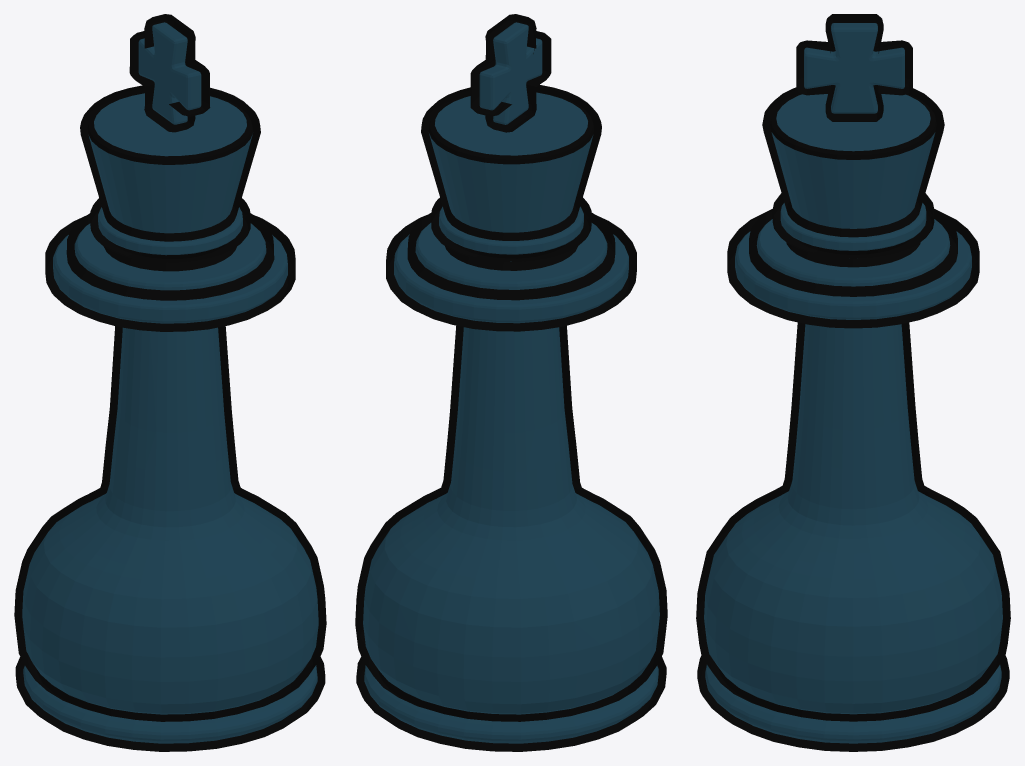
Rendered from cizgi_k_b.glb.
3 views of the same model, side by side, from view 1: azimuth 30°, elevation 25°; view 2: azimuth 150°, elevation 25°; view 3: azimuth 270°, elevation 25° (orthographic).
Parts seen in each view (by area): view 1: Body (×2), Outline (×2); view 2: Body (×2), Outline (×2); view 3: Body (×2), Outline (×2).
Part boxes in pixels (x1,y1,x2,y2): Body (×2): [22, 22, 318, 743]; Outline (×2): [14, 14, 326, 751]; Body (×2): [363, 22, 659, 743]; Outline (×2): [355, 14, 667, 751]; Body (×2): [704, 23, 1002, 743]; Outline (×2): [696, 14, 1010, 751].
Bounding box in the file's own units: 0.0402 × 0.0949 × 0.0402.
